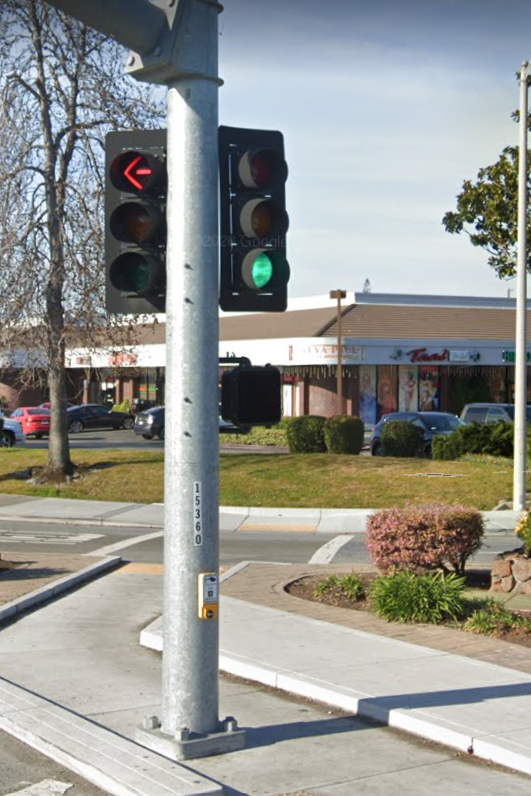green_light: (232, 128, 289, 308)
